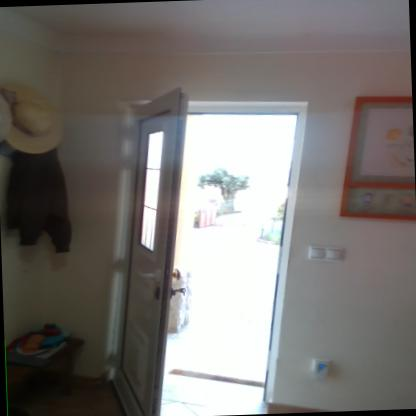semi: (115, 81, 328, 415)
